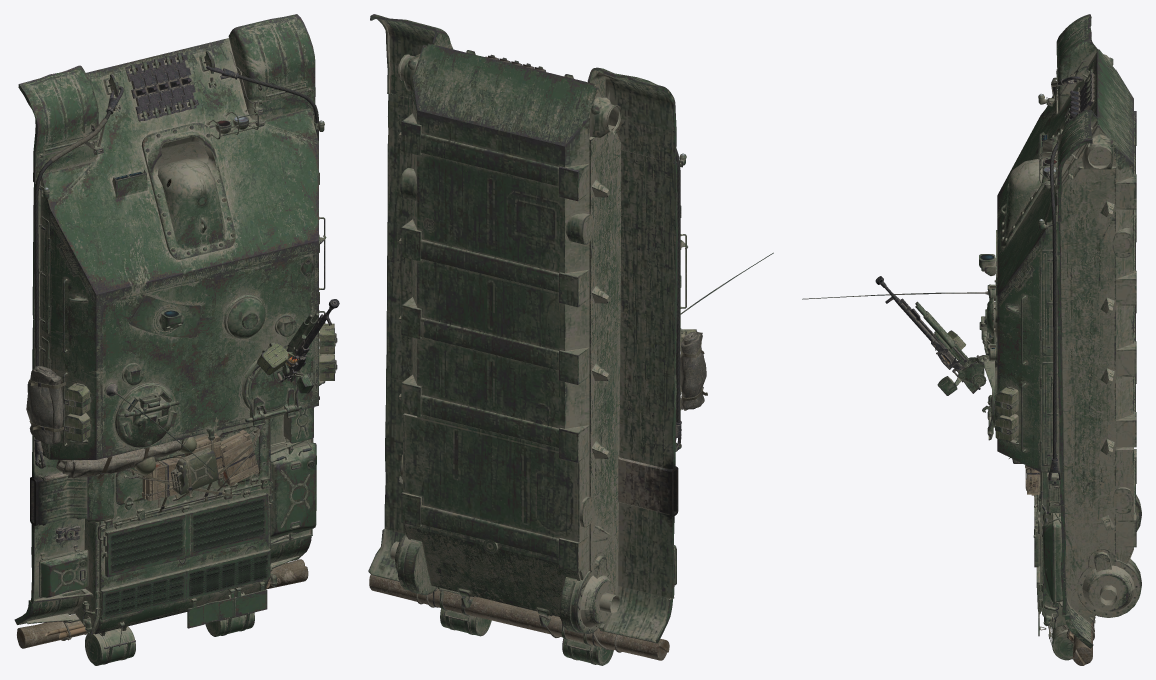
File: Hull.glb
3 renders of one model, left to right at view 1: azimuth 30°, elevation 25°; view 2: azimuth 150°, elevation 25°; view 3: azimuth 270°, elevation 25°, orthographic. The views are drawn at different scales.
Visible parts, largest first — view 1: set_0_group_0, set_0_group_1; view 2: set_0_group_0, set_0_group_1; view 3: set_0_group_0, set_0_group_1.
Boxes of the visible parts, x1=… form: set_0_group_0: x1=14, y1=14, x2=337, y2=665; set_0_group_1: x1=17, y1=299, x2=339, y2=648; set_0_group_0: x1=368, y1=14, x2=773, y2=665; set_0_group_1: x1=369, y1=331, x2=707, y2=660; set_0_group_0: x1=802, y1=14, x2=1141, y2=660; set_0_group_1: x1=875, y1=276, x2=1094, y2=665.
Size of the model in its own units: 3.5 by 6.61 by 3.68.
Materials: 2 (2 with a texture image).
